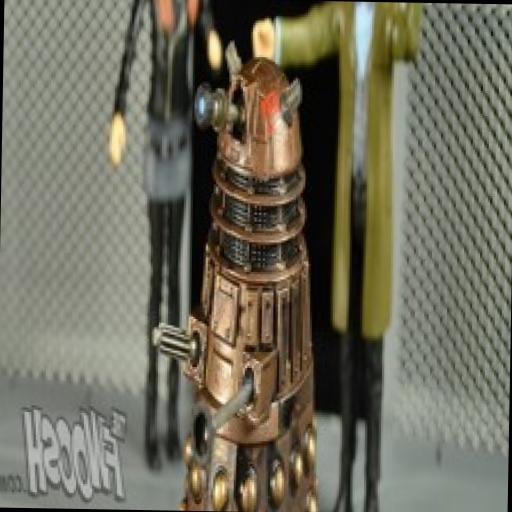dalek: (144, 37, 342, 512)
